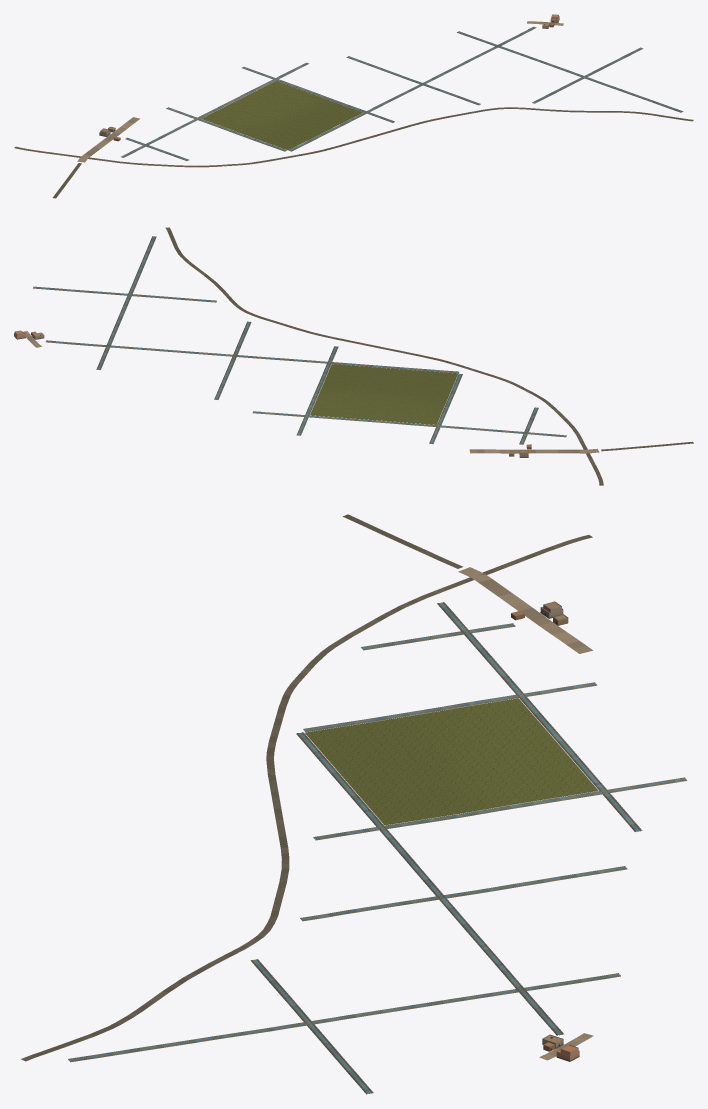
Rendered from uruk_quarter_04.glb.
3 views of the same model, one above another, from view 1: azimuth 30°, elevation 25°; view 2: azimuth 150°, elevation 25°; view 3: azimuth 270°, elevation 25° (orthographic). The views are drawn at different scales.
Parts seen in each view (by area): view 1: uruk_quarter_04; view 2: uruk_quarter_04; view 3: uruk_quarter_04.
Part boxes in pixels (bbox=[...]): uruk_quarter_04: bbox=[14, 14, 693, 198]; uruk_quarter_04: bbox=[14, 227, 693, 485]; uruk_quarter_04: bbox=[21, 514, 687, 1094].
Size of the model in its own units: 1169 by 10.09 by 566.
9 materials, 5 textured.
